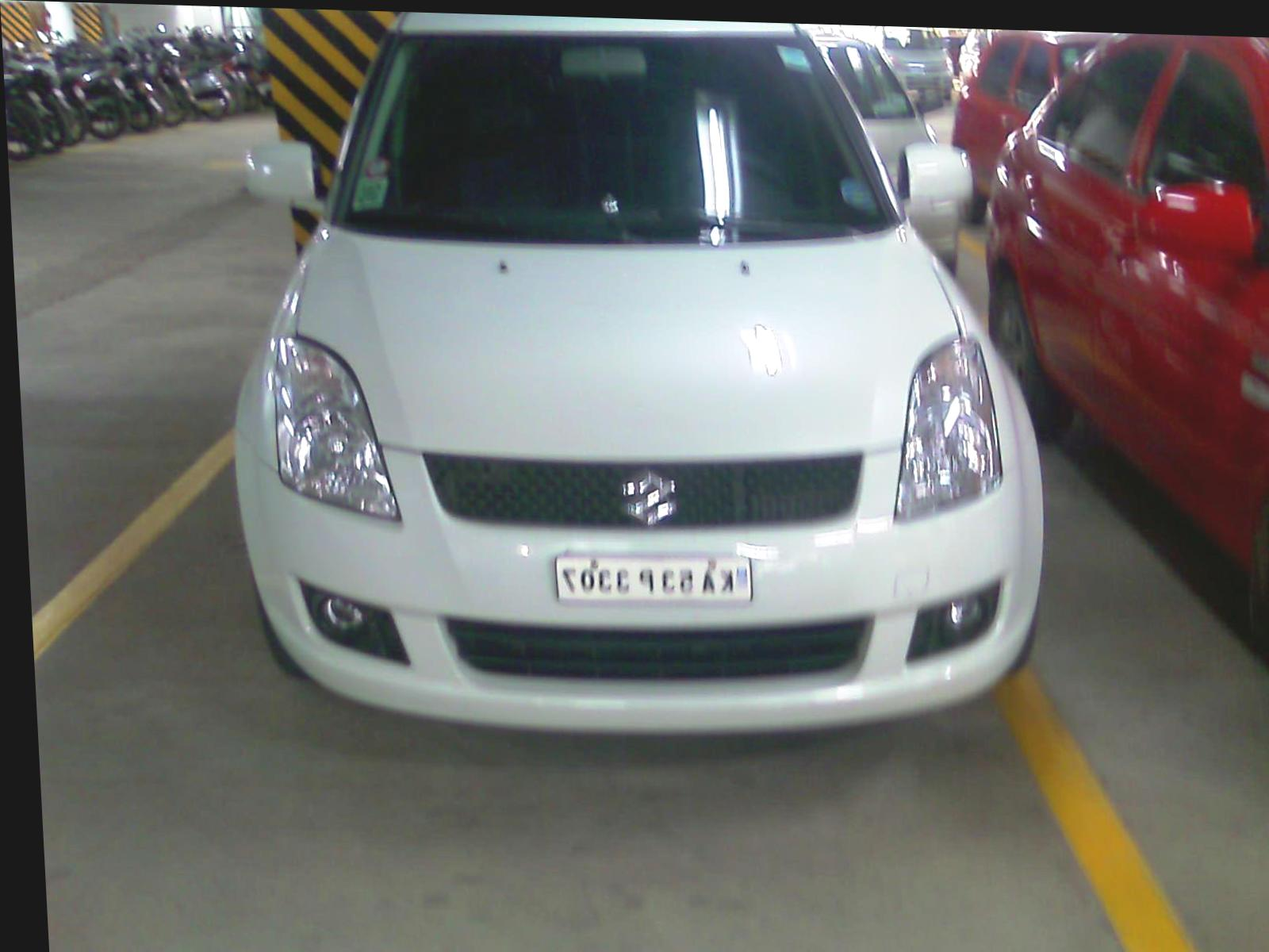License_Plate: (547, 547, 757, 615)
